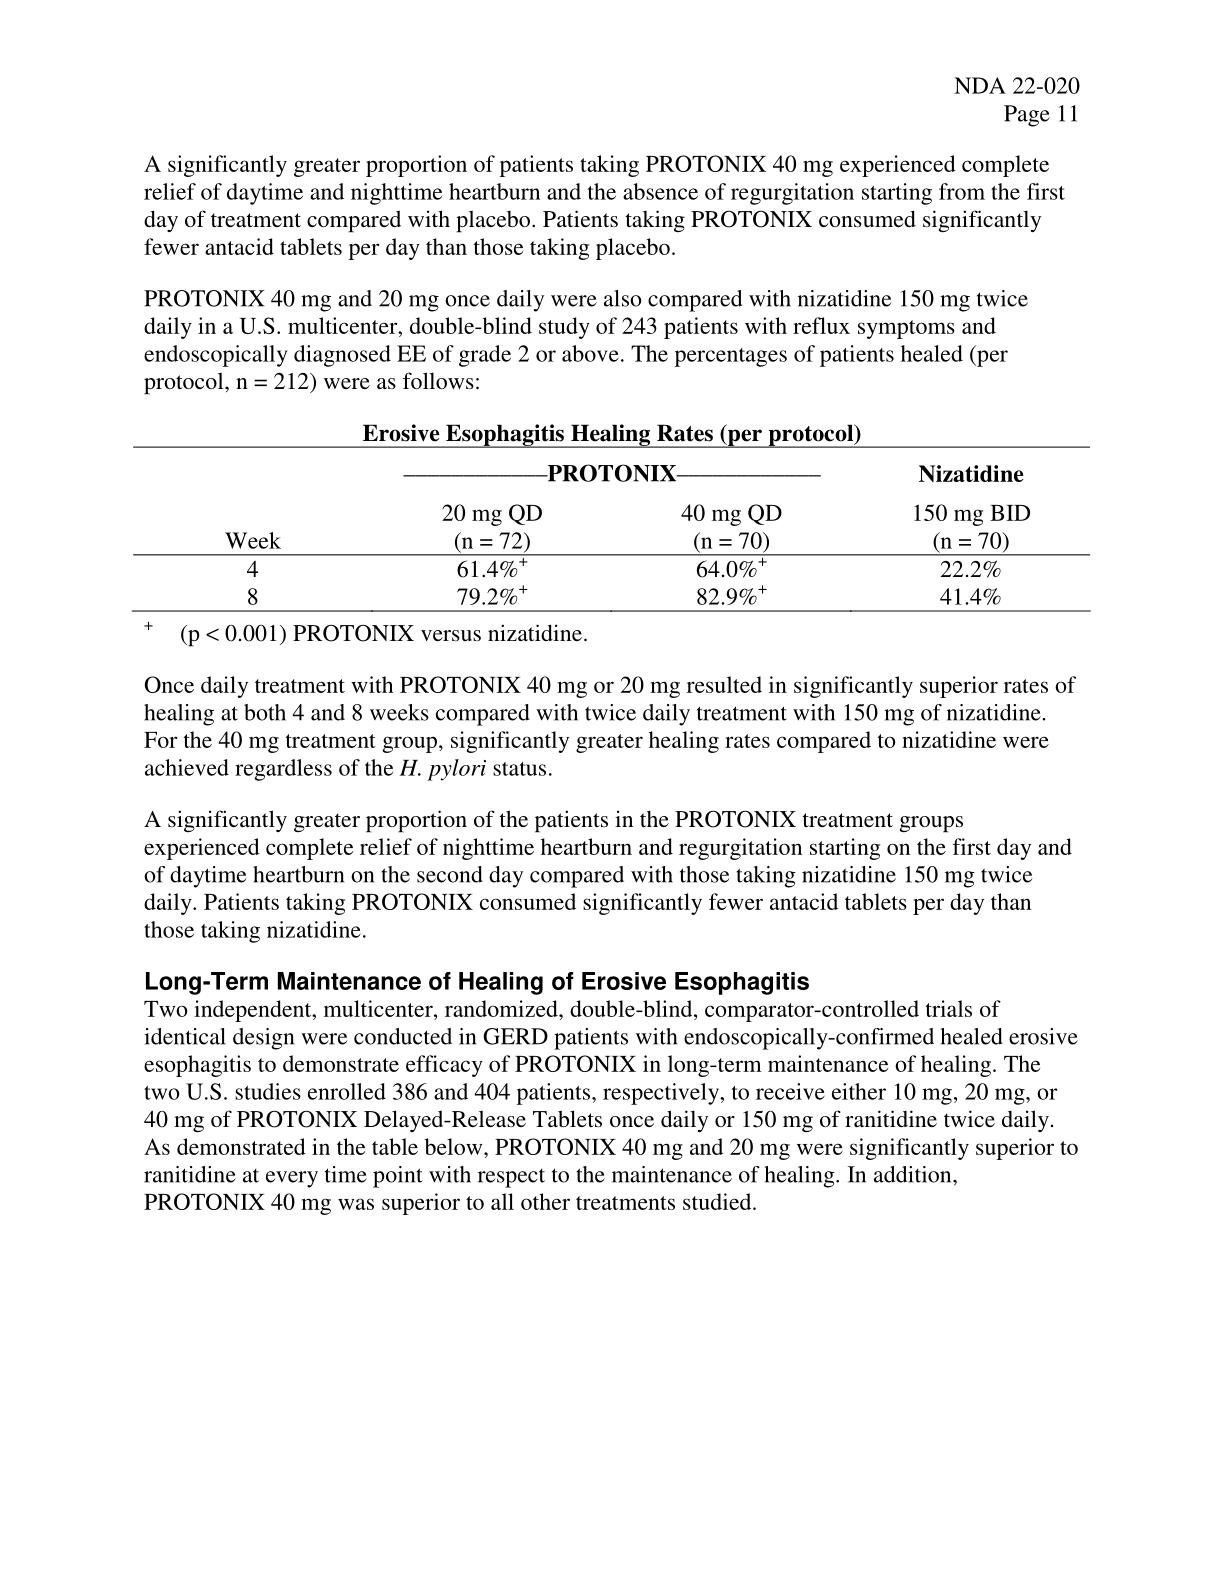partial_lined_merged_cells: (130, 446, 1092, 613)
